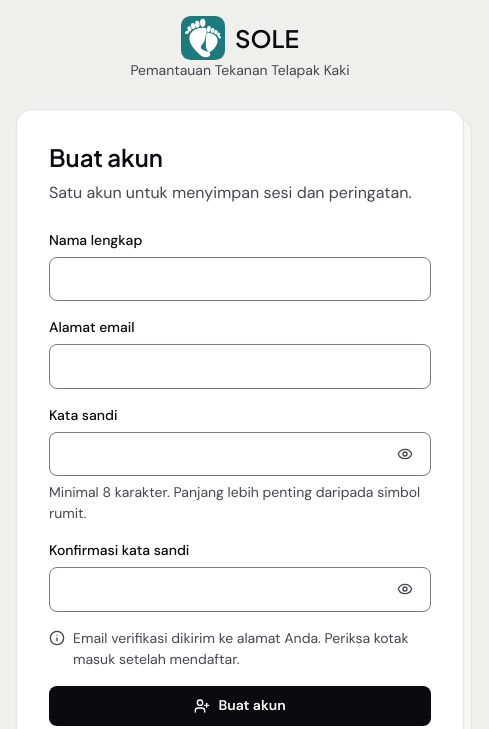
Test case: register page › names the password strength and the next hint as the field is typed
Type "abc" into the password field labelled "Kata sandi" at (240,454), box 49,432 -> 431,476
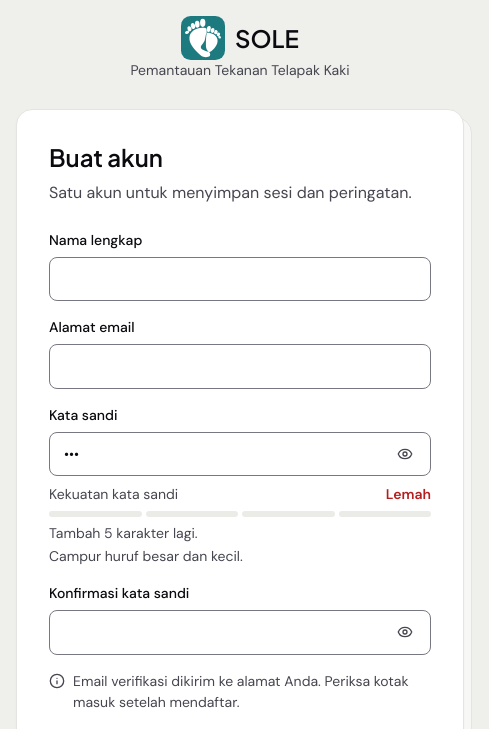
Now the text "Lemah" is shown, box 386,484 -> 431,505
Now the list item "Tambah 5 karakter lagi." is shown, box 49,524 -> 198,542
Type "Bunga-Melati-2026" into the password field labelled "Kata sandi" at (240,454), box 49,432 -> 431,476
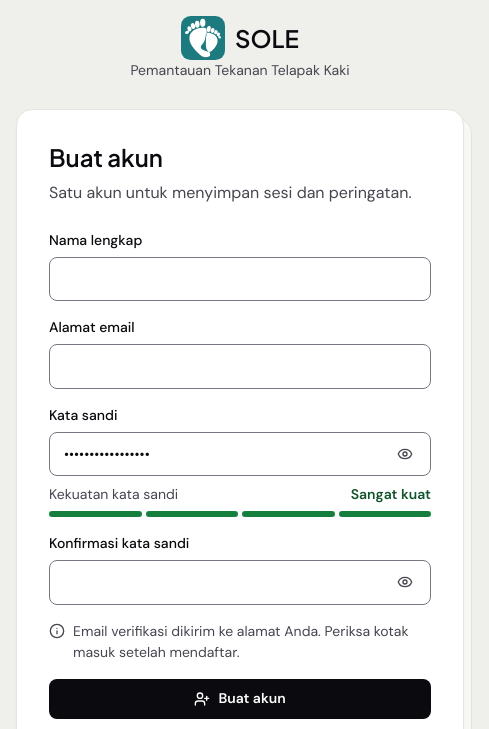
Now the text "Sangat kuat" is shown, box 351,484 -> 431,505
